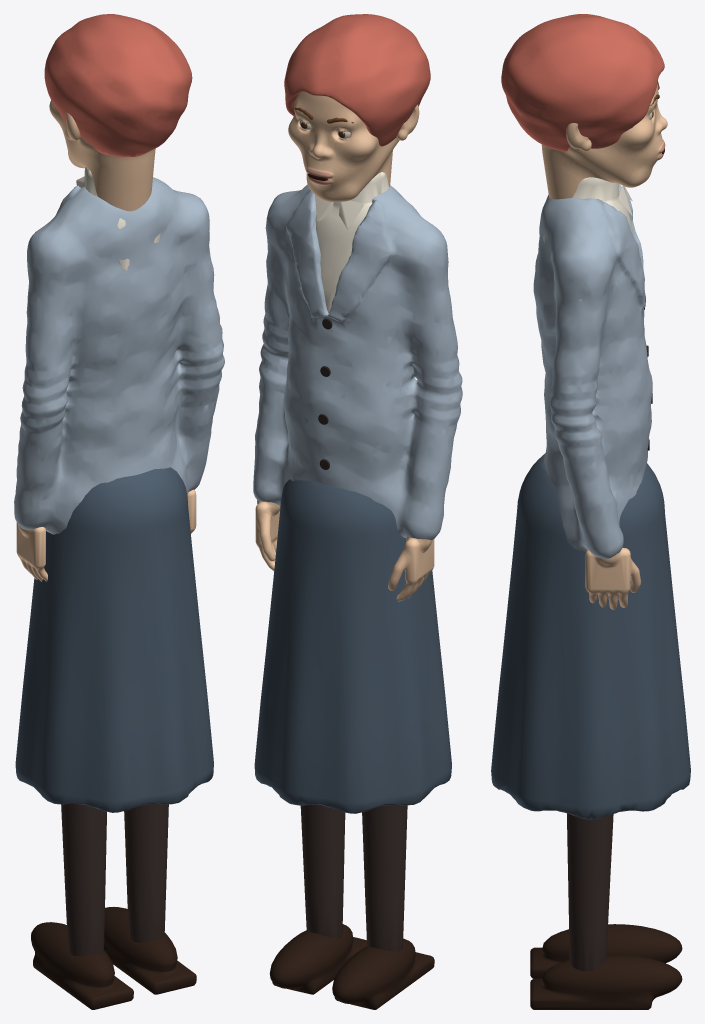
The model's file is harriet.fbx.
3 renders of one model, left to right at view 1: azimuth 30°, elevation 25°; view 2: azimuth 150°, elevation 25°; view 3: azimuth 270°, elevation 25°, orthographic.
Visible parts, largest first — view 1: Body, Hat, Head, HandR; view 2: Body, Hat, Head, HandR, HandL; view 3: Body, Hat, Head, HandL.
Part boxes in pixels (bbox=[...]): Body: bbox=[14, 167, 224, 1009]; Hat: bbox=[44, 14, 192, 156]; Head: bbox=[49, 100, 155, 211]; HandR: bbox=[16, 522, 47, 581]; Body: bbox=[253, 172, 462, 1009]; Hat: bbox=[284, 14, 430, 146]; Head: bbox=[288, 92, 419, 202]; HandR: bbox=[388, 536, 434, 601]; HandL: bbox=[255, 500, 280, 571]; Body: bbox=[491, 177, 690, 1009]; Hat: bbox=[501, 14, 664, 151]; Head: bbox=[541, 83, 667, 199]; HandL: bbox=[585, 548, 640, 609].
Bounding box in the file's own units: 0.3767 × 1.75 × 0.3285.
